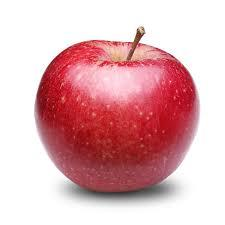apple: (33, 25, 202, 197)
